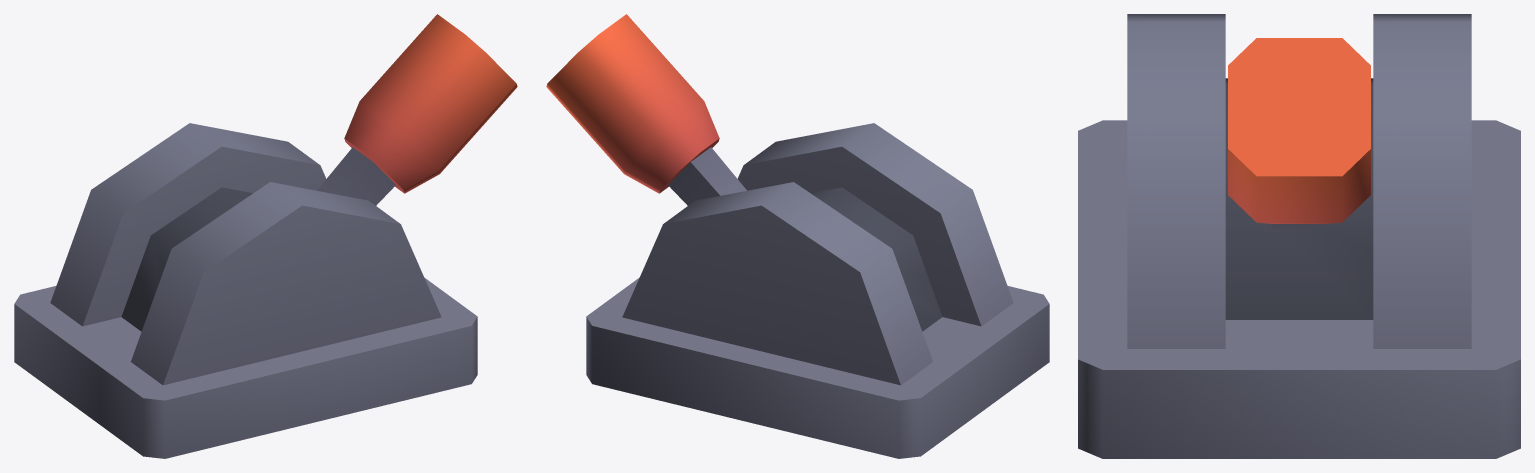
The model's file is OnOffSwitch.glb.
3 views of the same model, side by side, from view 1: azimuth 30°, elevation 25°; view 2: azimuth 150°, elevation 25°; view 3: azimuth 270°, elevation 25° (orthographic). The views are drawn at different scales.
Visible parts, largest first — view 1: lever, handle; view 2: lever, handle; view 3: lever, handle.
Part boxes in pixels (box(x1,y1,x2,y2)): lever: box(14, 123, 477, 458); handle: box(317, 14, 517, 205); lever: box(586, 123, 1049, 458); handle: box(546, 14, 746, 205); lever: box(1078, 14, 1520, 458); handle: box(1228, 38, 1370, 229).
Size of the model in its own units: 1.17 by 0.7755 by 0.6924.
1 material, 1 textured.
